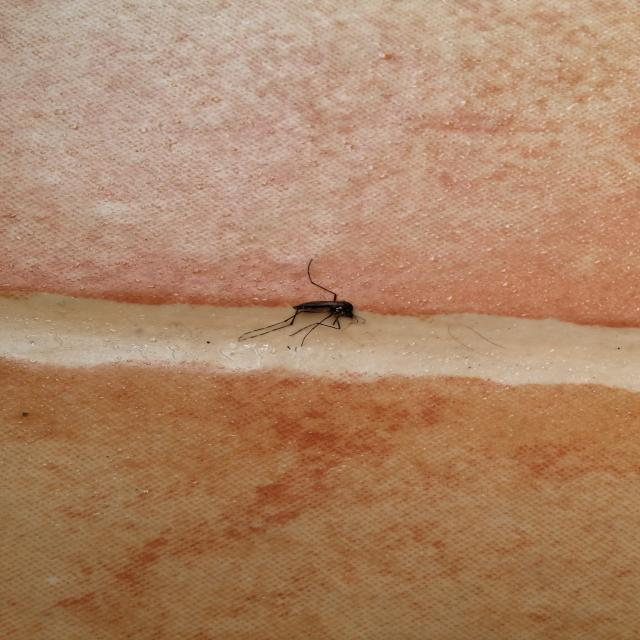albopictus: (238, 254, 372, 352)
